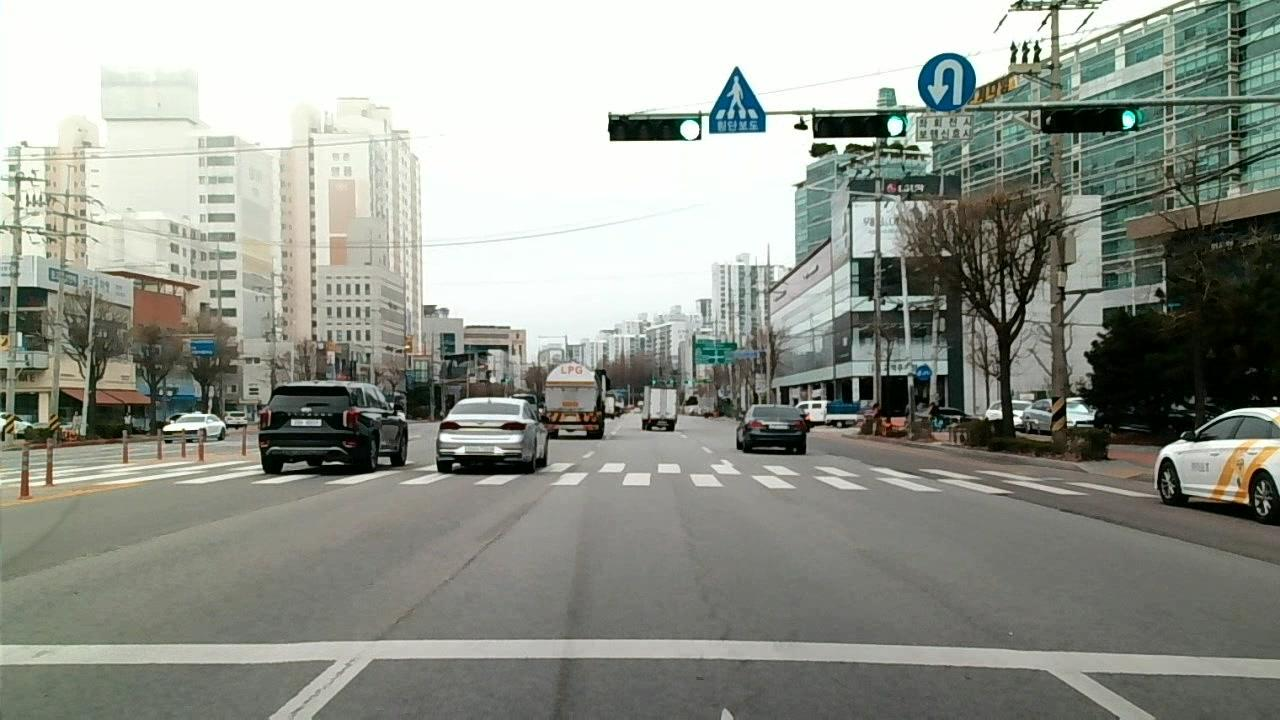vcrack: (377, 557, 470, 635), (261, 654, 363, 720), (1027, 496, 1161, 534), (679, 506, 718, 626), (103, 518, 211, 552), (3, 548, 98, 585), (477, 496, 542, 549), (1181, 534, 1279, 569), (251, 487, 339, 509)
